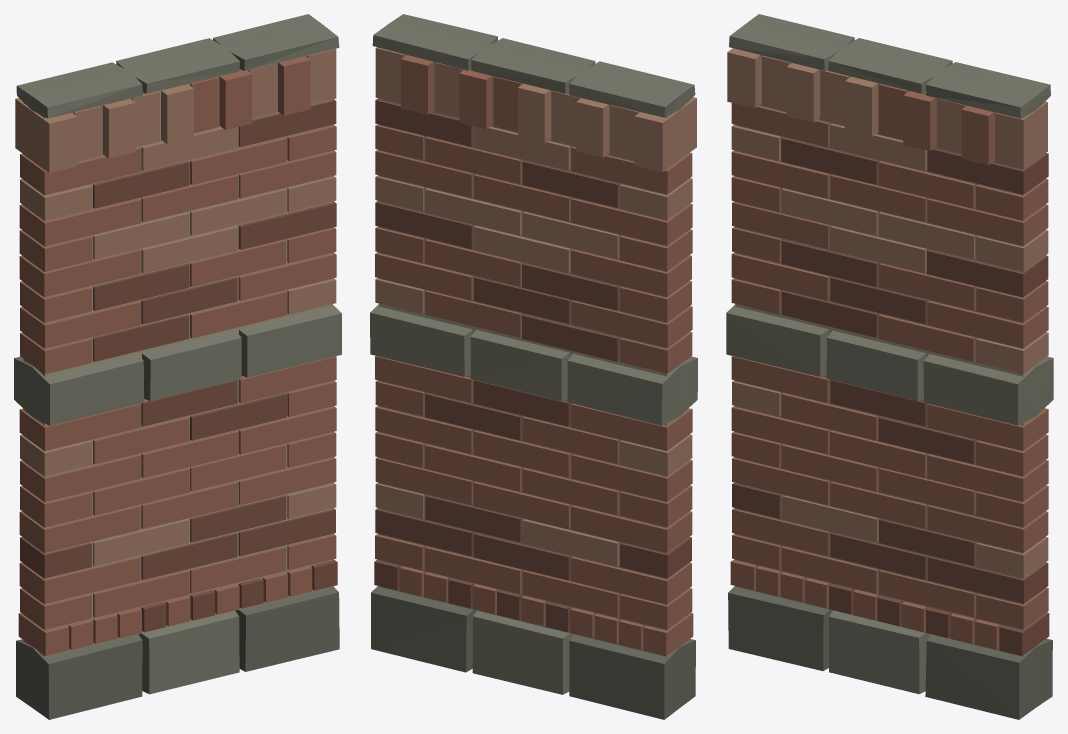
The model's file is wall_brick_band.glb.
3 views of the same model, side by side, from view 1: azimuth 30°, elevation 25°; view 2: azimuth 150°, elevation 25°; view 3: azimuth 330°, elevation 25° (orthographic).
Parts seen in each view (by area): view 1: Wall_Brick_Band; view 2: Wall_Brick_Band; view 3: Wall_Brick_Band.
Boxes of the visible parts, x1,y1,x2,y2 form: Wall_Brick_Band: [14, 14, 341, 719]; Wall_Brick_Band: [370, 14, 697, 719]; Wall_Brick_Band: [726, 14, 1053, 719].
Size of the model in its own units: 1.52 by 3.05 by 0.3261.
